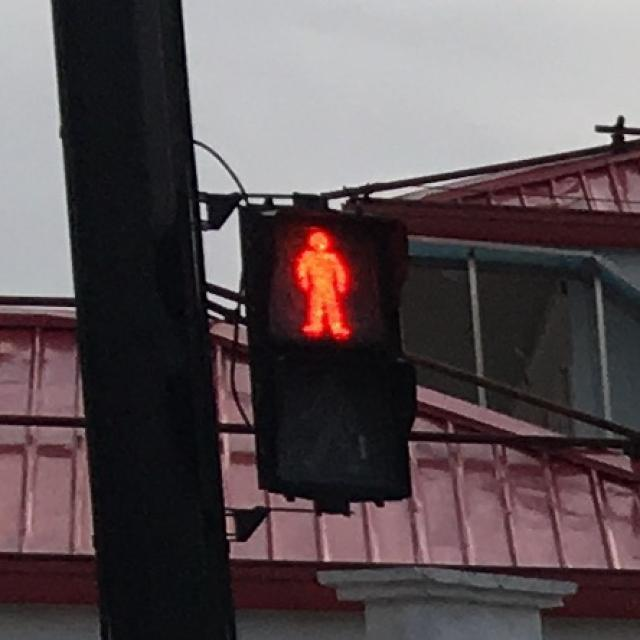red-crossing: (255, 209, 390, 340)
